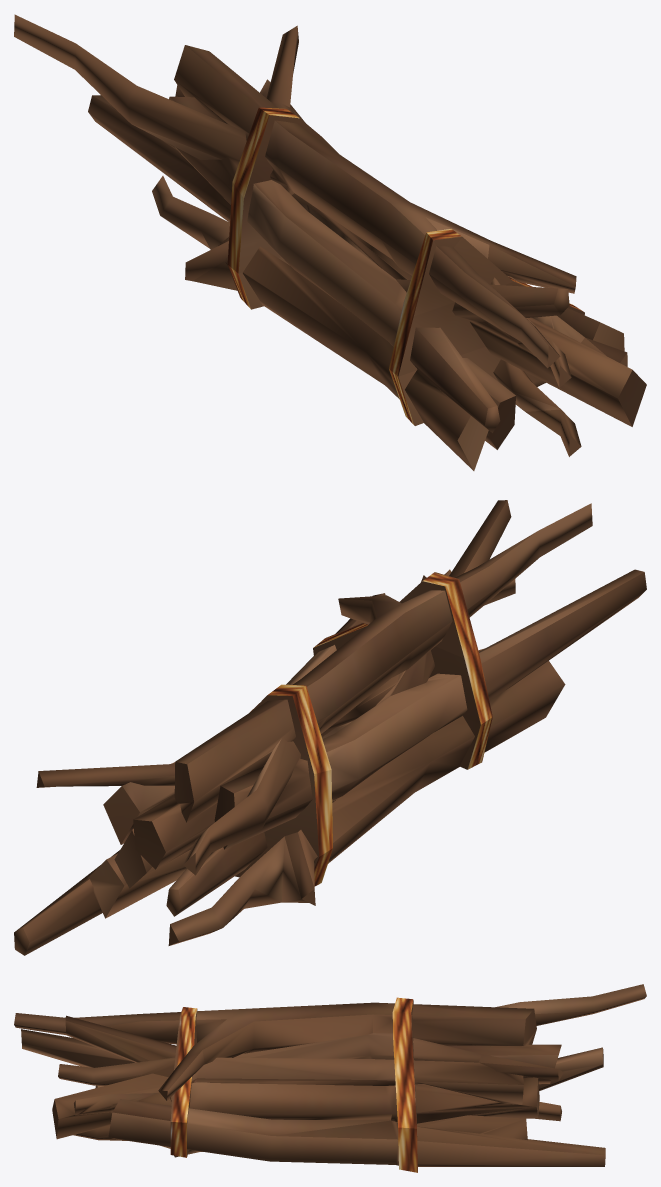
File: DJG_BoundTwigs20.fbx
The picture shows the model from 3 angles, top to bottom: view 1: azimuth 30°, elevation 25°; view 2: azimuth 150°, elevation 25°; view 3: azimuth 270°, elevation 25°; orthographic projection. The views are drawn at different scales.
Parts seen in each view (by area): view 1: Twigs.001; view 2: Twigs.001; view 3: Twigs.001.
Part boxes in pixels (x1=…): Twigs.001: x1=14, y1=14, x2=646, y2=470; Twigs.001: x1=14, y1=500, x2=646, y2=955; Twigs.001: x1=14, y1=984, x2=646, y2=1172.
Size of the model in its own units: 0.1398 by 0.1196 by 0.511.
